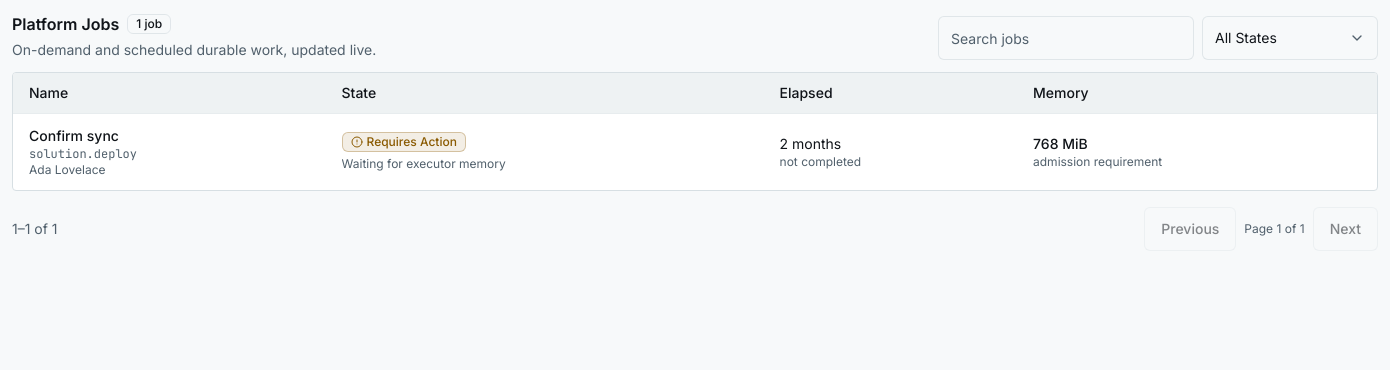
Test case: PlatformJobsPanel › filters and presents jobs requiring action
This screenshot has width=1390, height=370.
Click the dropdown named "Filter Platform Jobs by state".
click(1290, 38)  # box top-left (1202, 16), bottom-right (1378, 60)
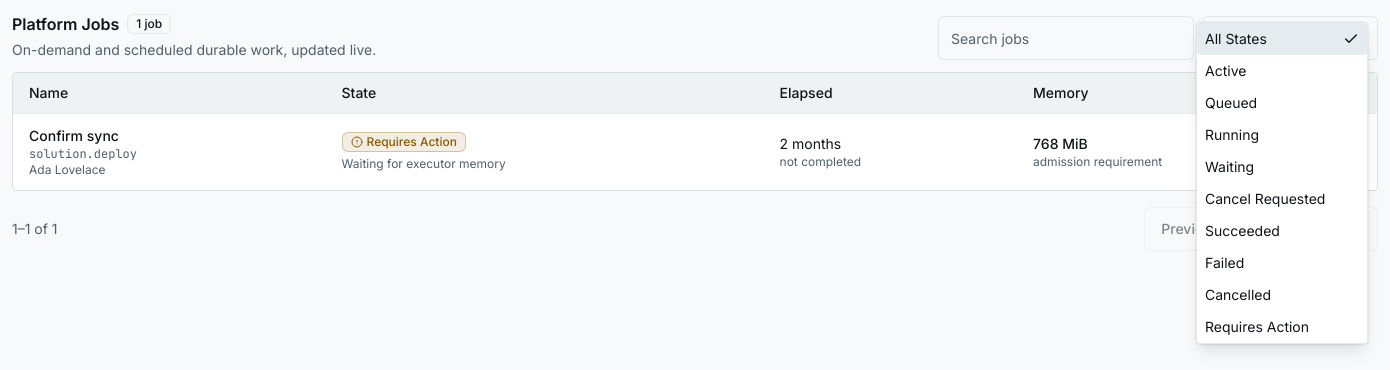
Click the option "Requires Action".
click(1257, 326)  # box top-left (1205, 318), bottom-right (1309, 335)
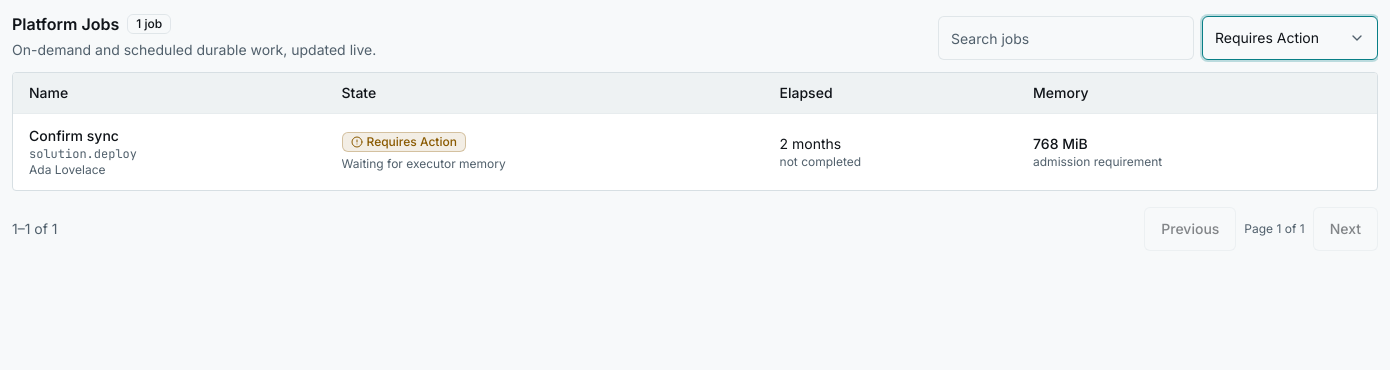
Expected: the text "Requires Action" is shown, top-left (1215, 28), bottom-right (1319, 48)
